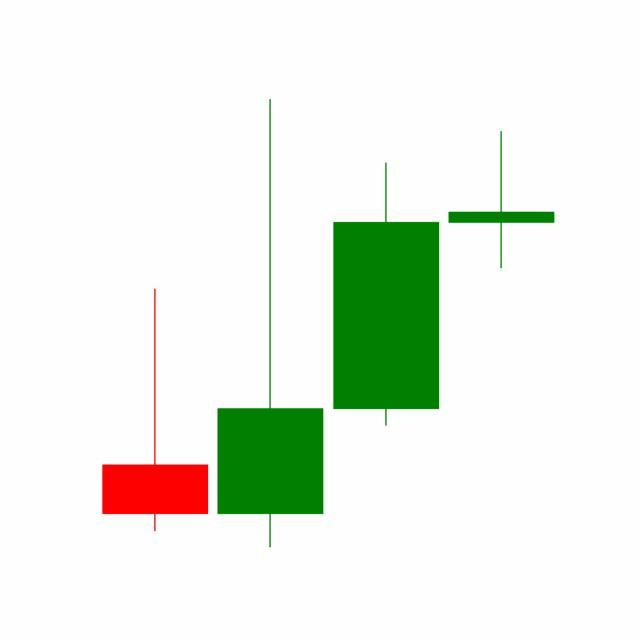Spinning Top: (444, 130, 560, 271)
